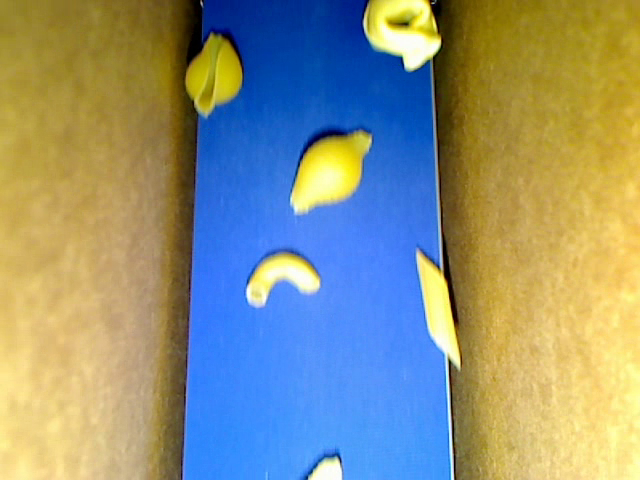elbow: (246, 252, 321, 307)
penne: (414, 248, 461, 369)
shell: (288, 129, 371, 215), (185, 33, 240, 116)
tortellini: (362, 1, 441, 75)
